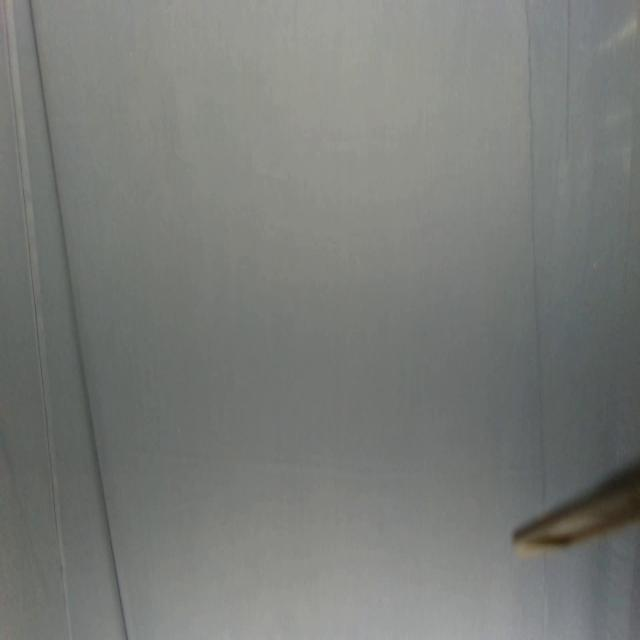crease: (28, 0, 130, 640), (0, 0, 72, 638), (524, 0, 548, 512), (564, 0, 572, 161)
